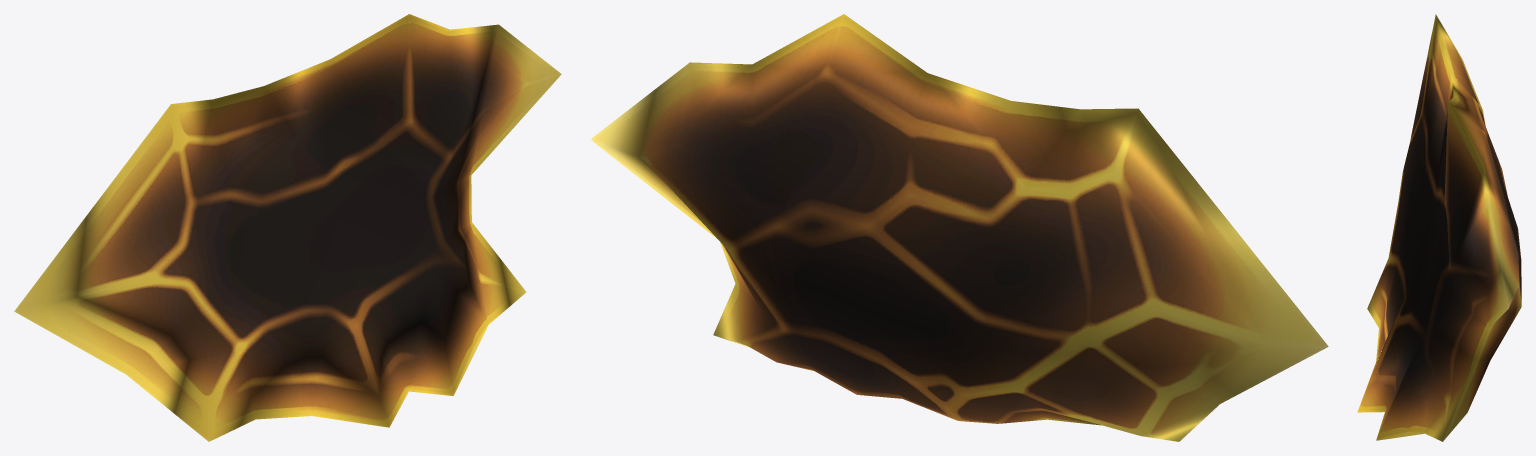
File: item_weashimgm2501-et05.glb
3 views of the same model, side by side, from view 1: azimuth 30°, elevation 25°; view 2: azimuth 150°, elevation 25°; view 3: azimuth 270°, elevation 25° (orthographic). The views are drawn at different scales.
Parts seen in each view (by area): view 1: FlyffMesh; view 2: FlyffMesh; view 3: FlyffMesh.
Part boxes in pixels (x1=…): FlyffMesh: x1=14, y1=14, x2=561, y2=441; FlyffMesh: x1=590, y1=14, x2=1328, y2=441; FlyffMesh: x1=1357, y1=14, x2=1521, y2=441.
Size of the model in its own units: 0.9364 by 0.5498 by 0.24.
Materials: 1 (1 with a texture image).
